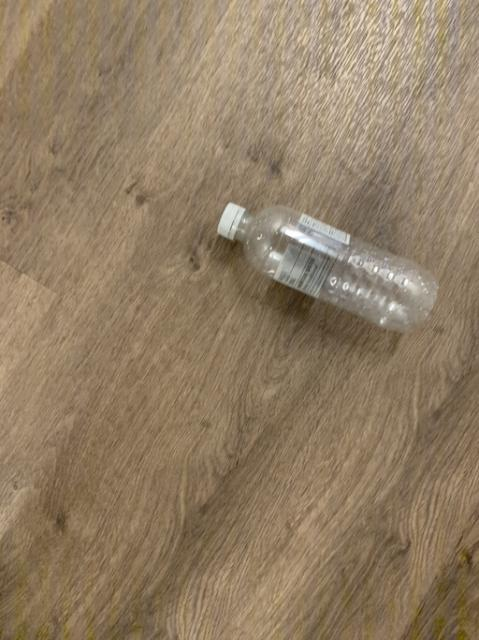plastic: (216, 202, 437, 330)
